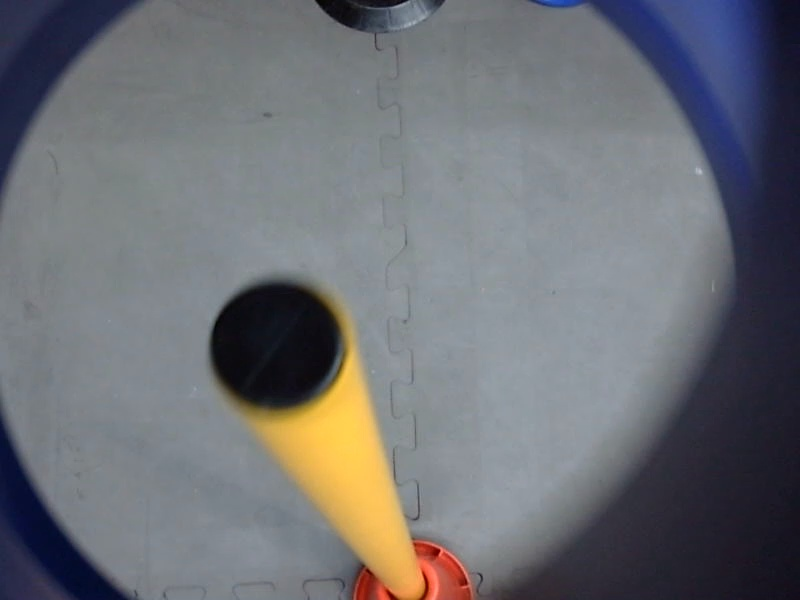tip: (197, 269, 362, 431)
